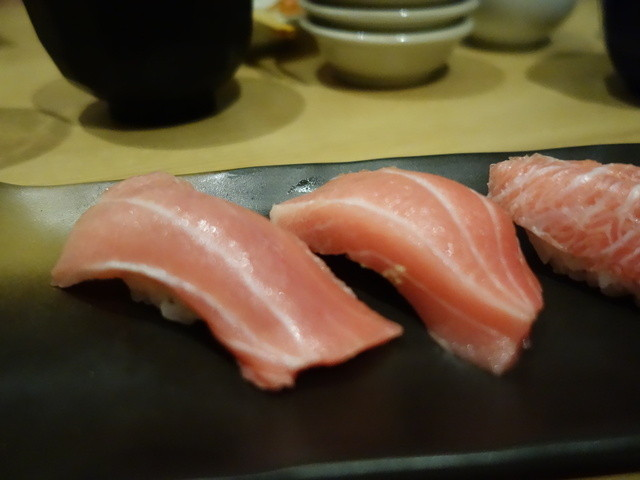medium_fatty_tuna: (52, 171, 398, 388), (275, 167, 545, 376)
